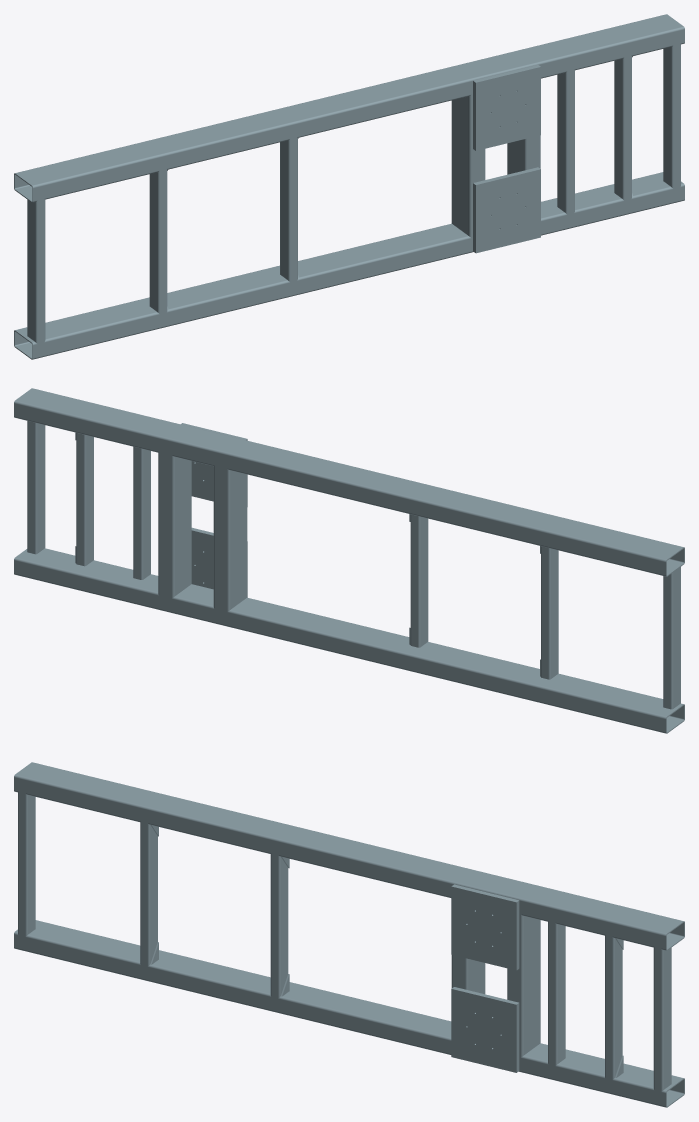
Rendered from frame_R07.glb.
3 renders of one model, top to bottom at view 1: azimuth 30°, elevation 25°; view 2: azimuth 150°, elevation 25°; view 3: azimuth 330°, elevation 25°, orthographic.
Visible parts, largest first — view 1: main_rail_left, main_rail_right, arm_deck_left, arm_deck_right, crossmember_04, crossmember_01, crossmember_02, crossmember_03, crossmember_06, crossmember_08, crossmember_07, crossmember_05; view 2: main_rail_left, main_rail_right, crossmember_04, crossmember_05, crossmember_03, crossmember_08, crossmember_01, crossmember_07, crossmember_06, crossmember_02, arm_deck_right, arm_deck_left; view 3: main_rail_left, main_rail_right, arm_deck_left, arm_deck_right, crossmember_05, crossmember_08, crossmember_03, crossmember_06, crossmember_01, crossmember_02, crossmember_07, crossmember_04.
Part boxes in pixels (box(x1,y1,x2,y2)): main_rail_left: box(14, 14, 684, 202); main_rail_right: box(14, 172, 684, 359); arm_deck_left: box(473, 65, 540, 150); arm_deck_right: box(473, 167, 540, 253); crossmember_04: box(451, 94, 485, 238); crossmember_01: box(27, 199, 45, 343); crossmember_02: box(149, 169, 167, 314); crossmember_03: box(280, 137, 297, 282); crossmember_06: box(557, 69, 574, 214); crossmember_08: box(663, 43, 680, 188); crossmember_07: box(614, 55, 631, 200); crossmember_05: box(507, 135, 540, 174); main_rail_left: box(14, 388, 684, 576); main_rail_right: box(14, 548, 684, 733); crossmember_04: box(213, 465, 247, 612); crossmember_05: box(158, 452, 191, 598); crossmember_03: box(410, 514, 428, 647); crossmember_08: box(27, 421, 45, 554); crossmember_01: box(663, 567, 680, 709); crossmember_07: box(76, 433, 93, 566); crossmember_06: box(133, 446, 150, 579); crossmember_02: box(541, 546, 558, 679); arm_deck_right: box(191, 527, 247, 597); arm_deck_left: box(181, 423, 247, 506); main_rail_left: box(14, 762, 684, 950); main_rail_right: box(14, 920, 684, 1107); arm_deck_left: box(451, 884, 519, 970); arm_deck_right: box(451, 987, 519, 1072); crossmember_05: box(507, 913, 540, 1057); crossmember_08: box(653, 947, 671, 1091); crossmember_03: box(270, 853, 288, 998); crossmember_06: box(548, 921, 565, 1066); crossmember_01: box(18, 791, 35, 936); crossmember_02: box(140, 821, 157, 966); crossmember_07: box(605, 935, 622, 1080); crossmember_04: box(451, 955, 485, 994).
Size of the model in its own units: 4 by 1.02 by 0.23.
